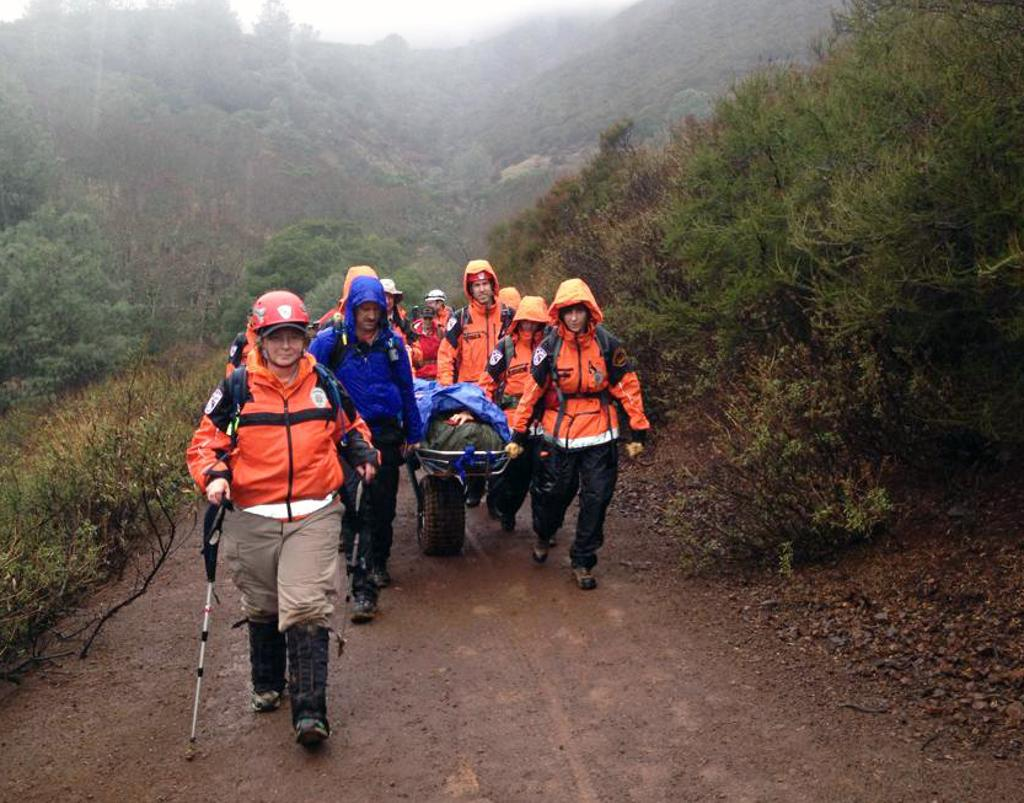face: (265, 321, 303, 366), (357, 300, 382, 331), (564, 306, 589, 332), (472, 278, 494, 304), (522, 314, 539, 339), (499, 304, 512, 320), (428, 298, 439, 312), (423, 315, 432, 328), (315, 324, 322, 332), (414, 308, 420, 317)
